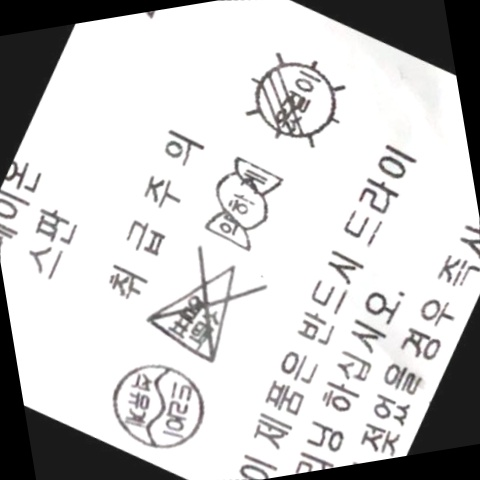dry_clean_petrol_only: (99, 347, 225, 463)
line_dry_in_shade: (232, 42, 359, 163)
non_chlorine_bleach: (137, 239, 269, 377)
wring: (192, 148, 302, 261)
